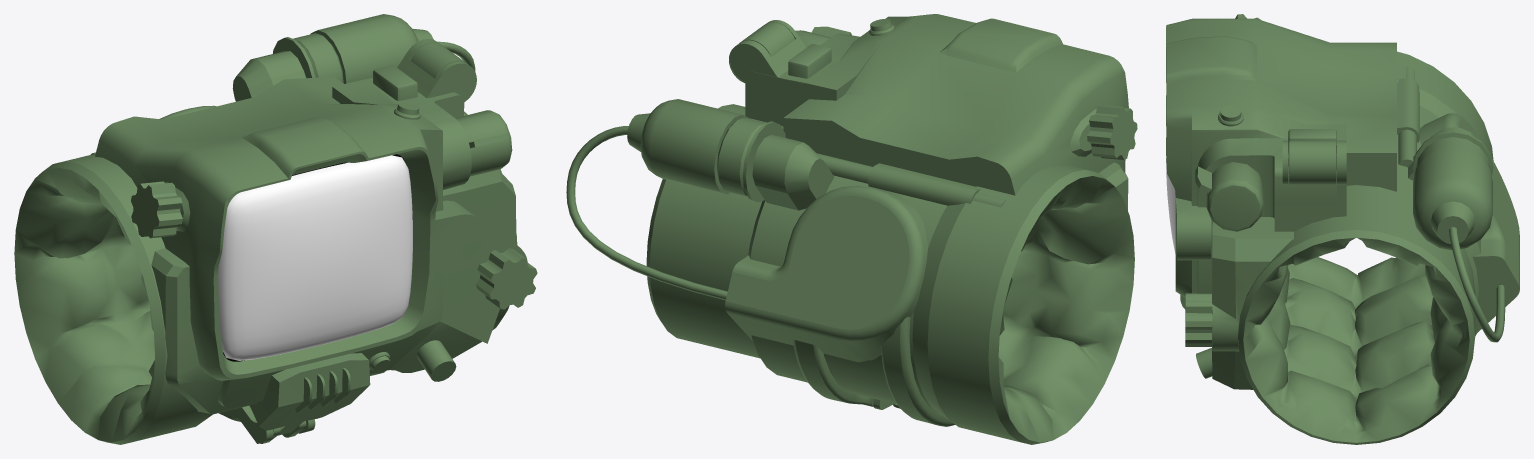
File: Pipboy_With_Interface 3.fbx
3 views of the same model, side by side, from view 1: azimuth 30°, elevation 25°; view 2: azimuth 150°, elevation 25°; view 3: azimuth 270°, elevation 25° (orthographic). The views are drawn at different scales.
Parts seen in each view (by area): view 1: PipBoy; view 2: PipBoy; view 3: PipBoy.
Boxes of the visible parts, bbox=[...] form: PipBoy: bbox=[14, 14, 537, 444]; PipBoy: bbox=[566, 14, 1137, 444]; PipBoy: bbox=[1166, 14, 1519, 444].
Size of the model in its own units: 0.3328 by 0.2353 by 0.236.
